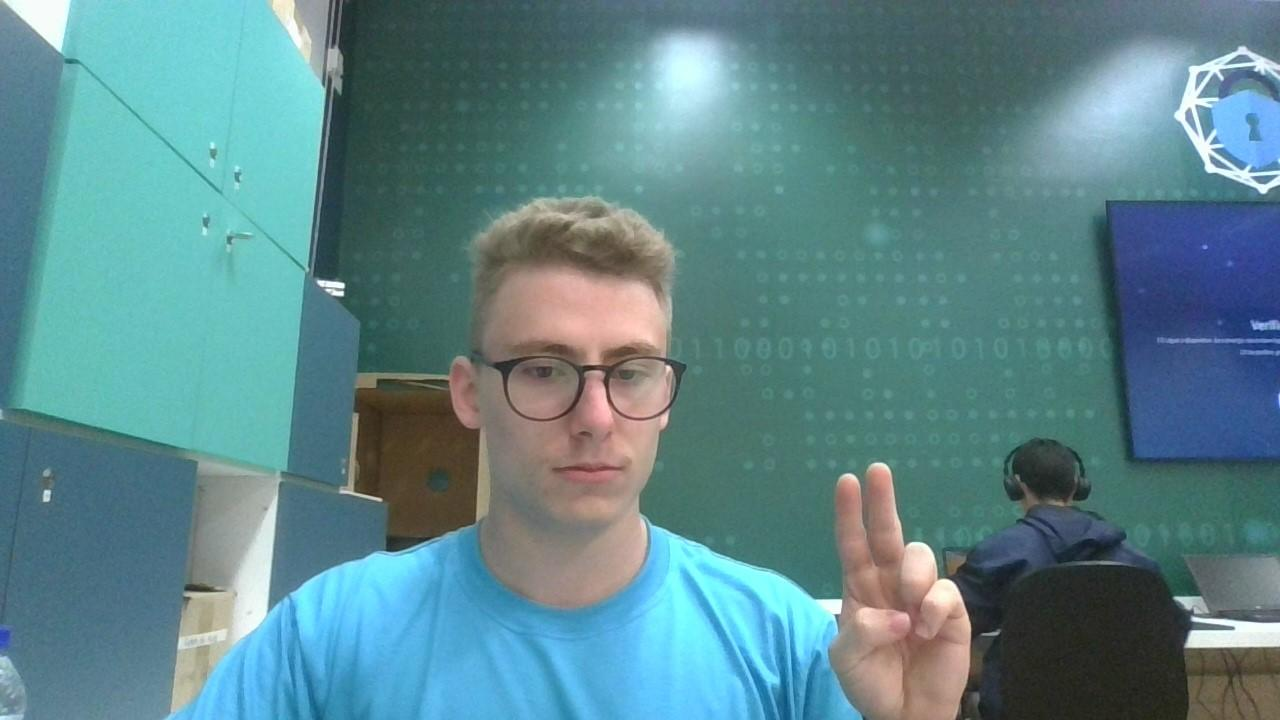U: (805, 460, 972, 715)
